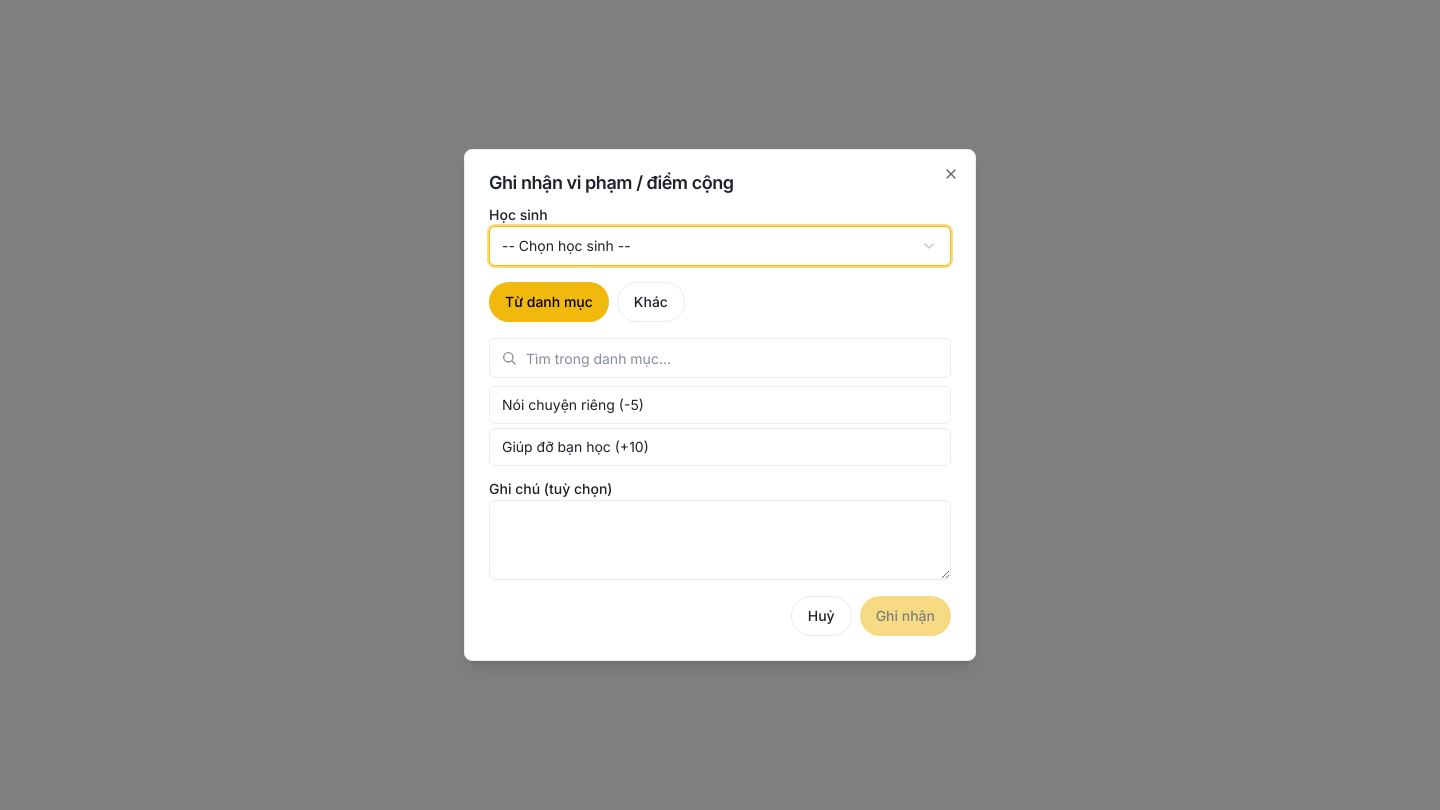
Test: submit thất bại hiện đúng error.data.message, dialog không đóng
Select "Nguyễn Văn A" in the dropdown labelled "Học sinh" at (720, 246), box [489, 226, 951, 266]
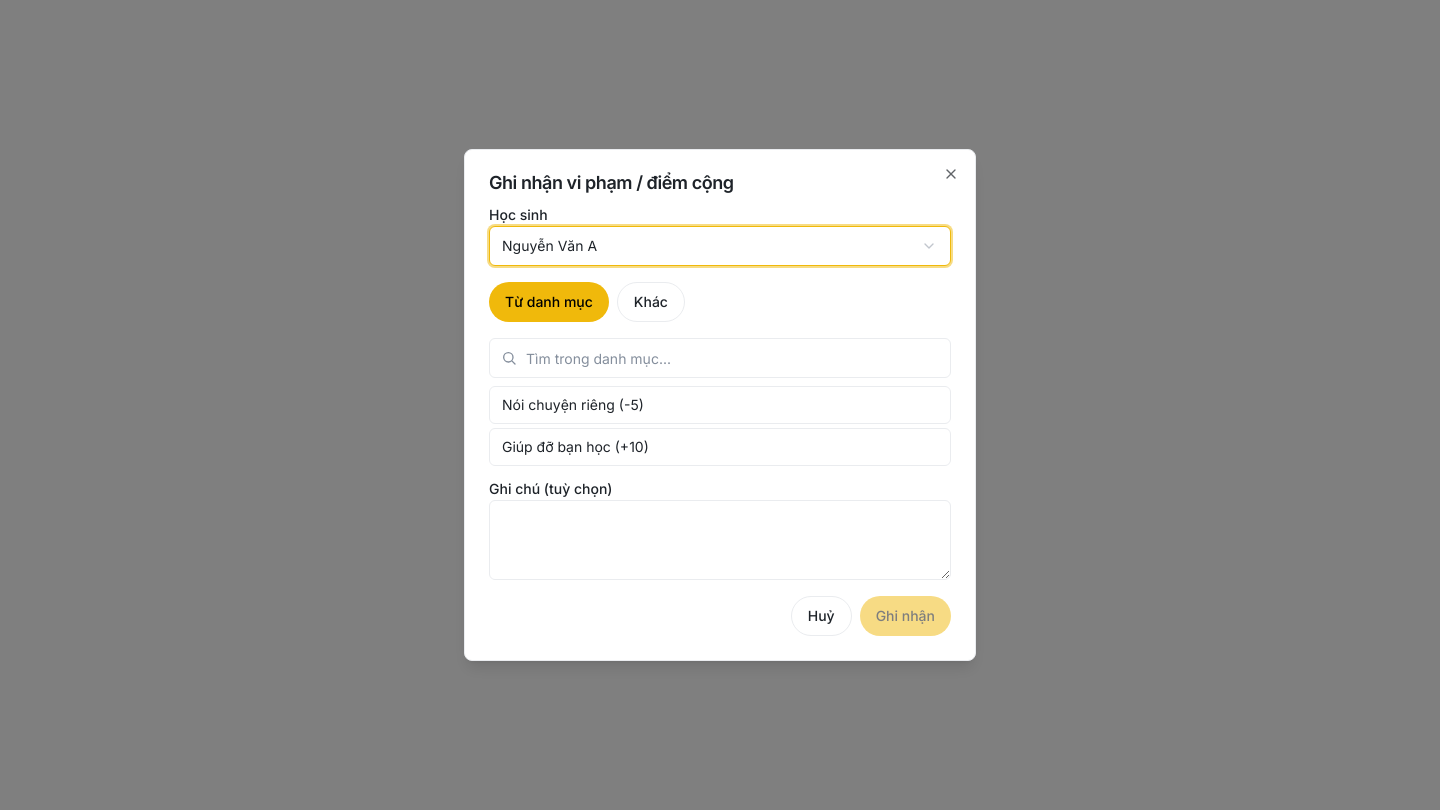
Click the button "Nói chuyện riêng (-5)" at (558, 404), box [489, 386, 951, 424]
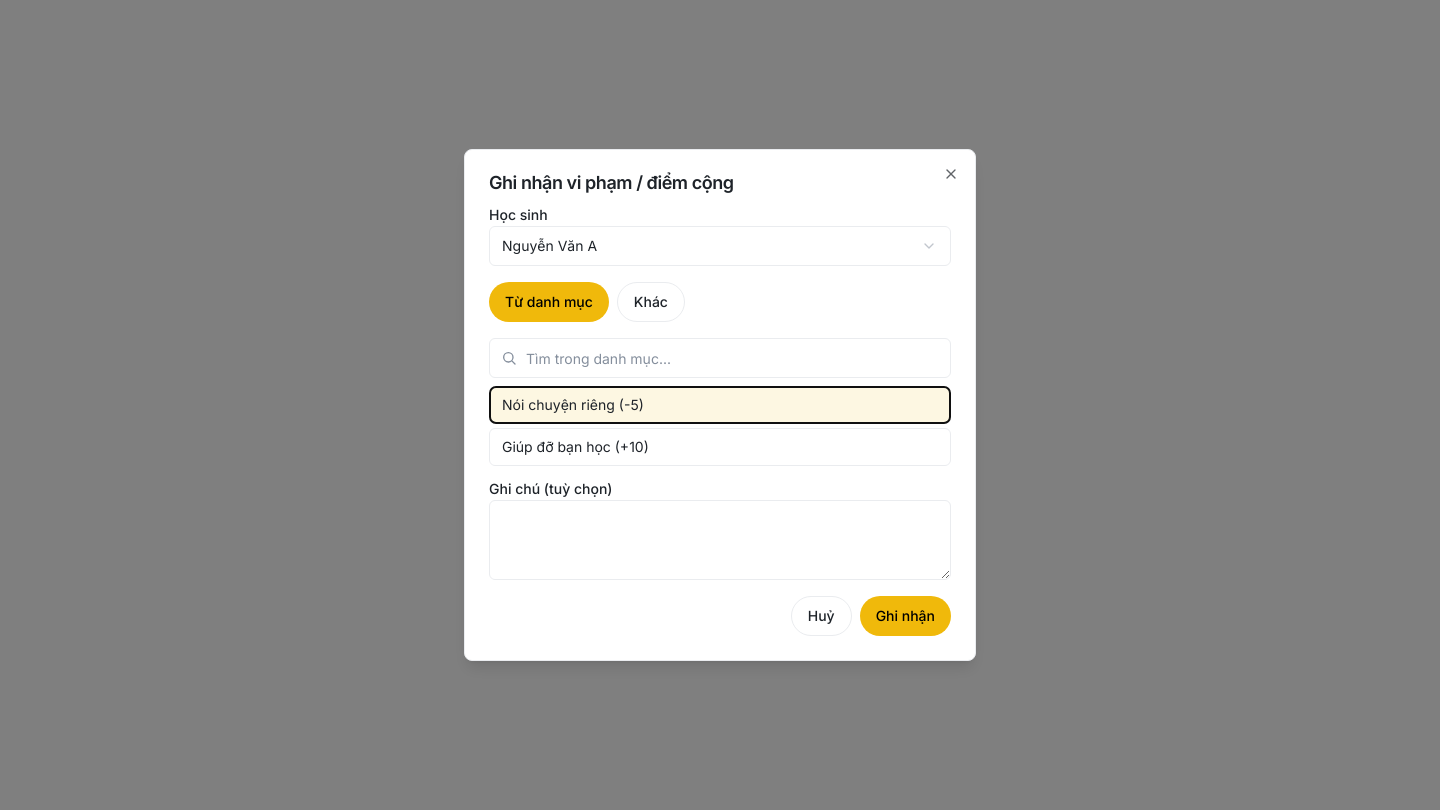
Click the button "Ghi nhận" at (905, 616), box [860, 596, 951, 636]
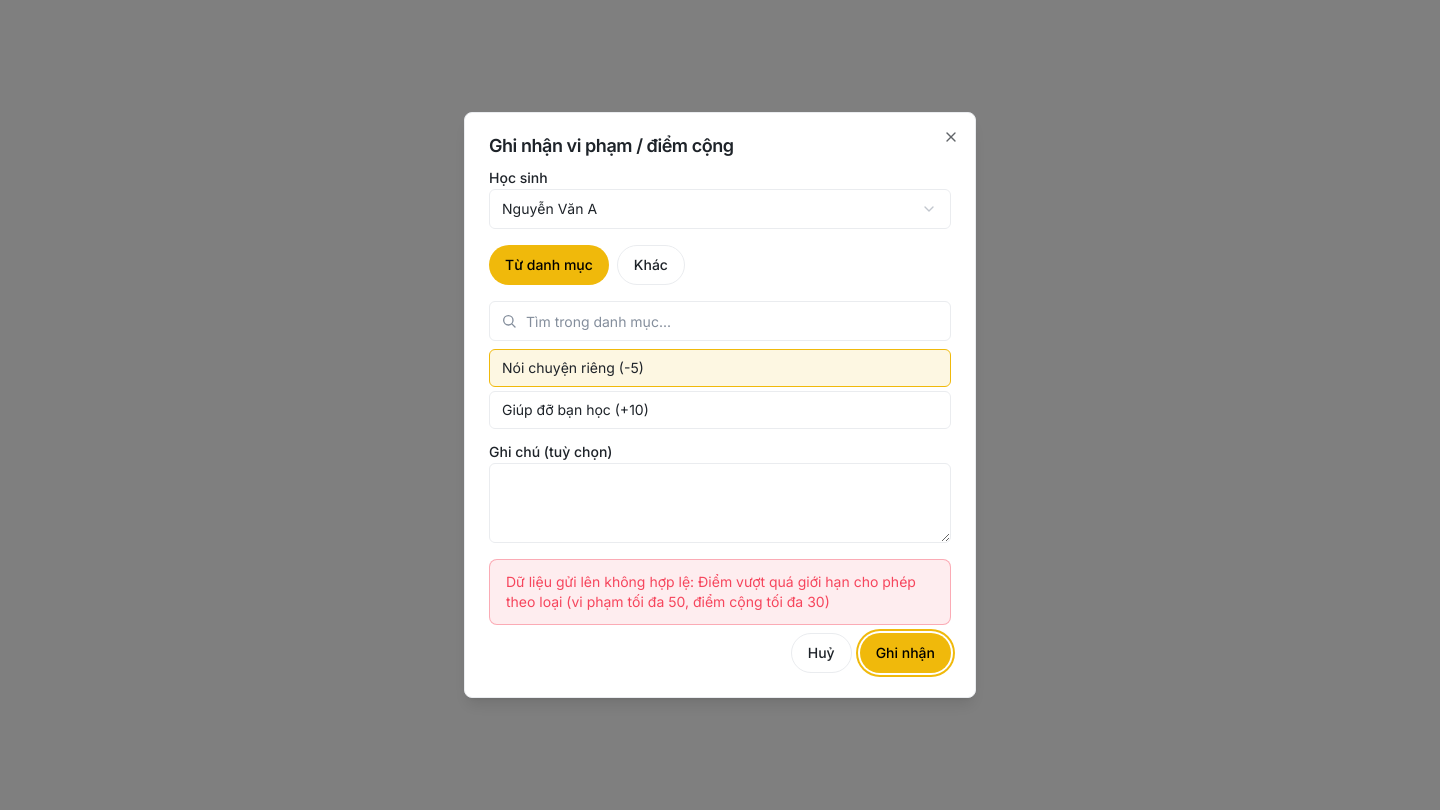
Now the text "Dữ liệu gửi lên không hợp lệ: Điểm vượt quá giới hạn cho phép theo loại (vi phạm tối đa 50, điểm cộng tối đa 30)" is shown, box [506, 573, 916, 610]
